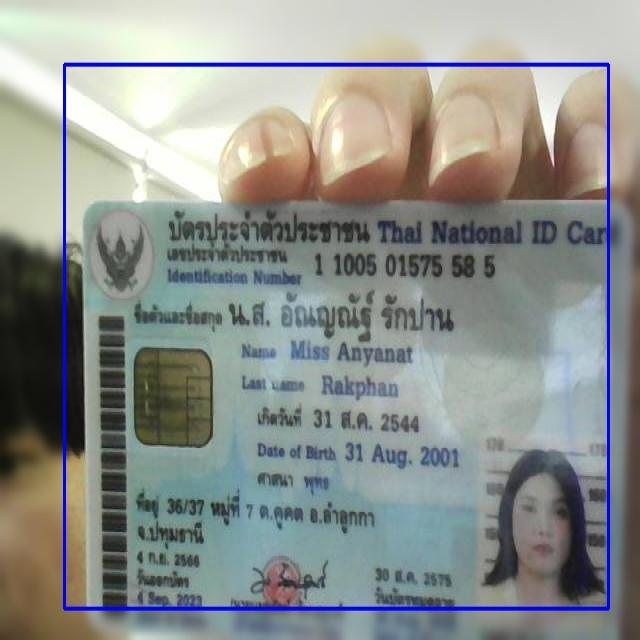Address_th: (132, 483, 390, 553)
Date_of_Birth: (342, 437, 463, 473)
Date_of_Issue: (134, 585, 210, 613)
First_Name: (286, 337, 415, 369)
ID_Number: (312, 247, 498, 282)
Image: (478, 432, 611, 626)
Last_Name: (317, 371, 401, 403)
Thai_Name: (226, 283, 460, 343)
